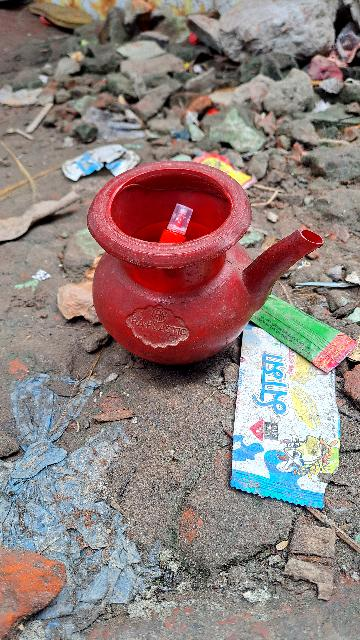hardplastic: (94, 162, 279, 367)
